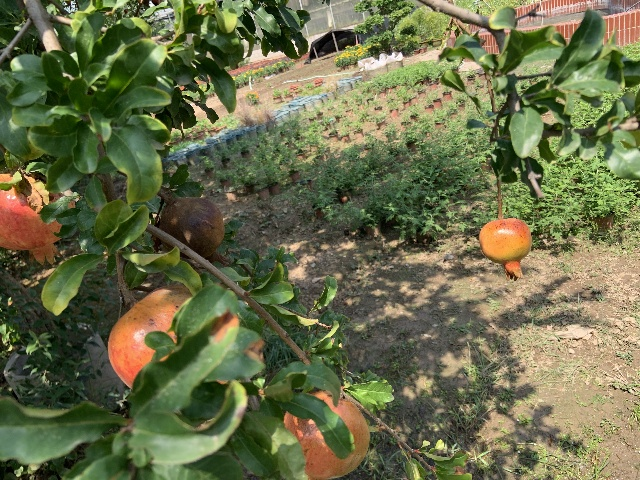ripe: (107, 284, 264, 388), (282, 390, 370, 479), (0, 170, 75, 264), (479, 217, 531, 280)
